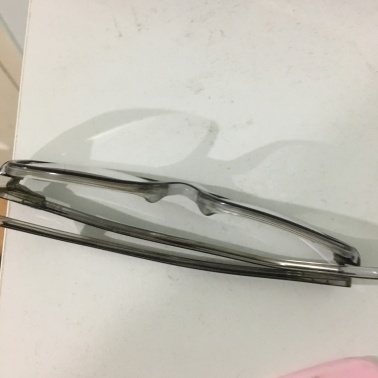glasses: (6, 145, 361, 310)
